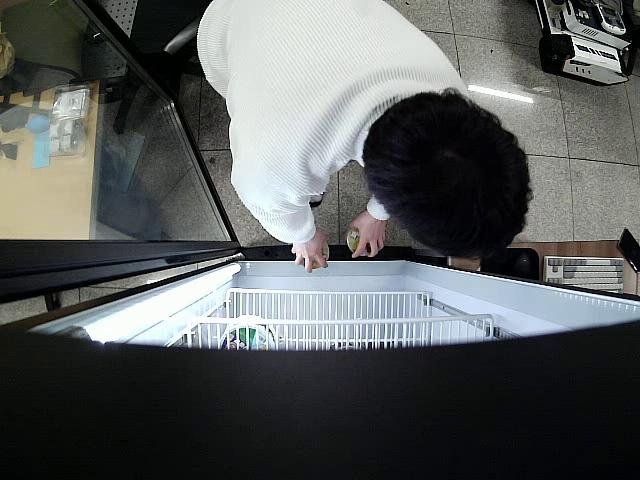00_hand: (345, 210, 389, 261), (290, 228, 332, 275)
04_chapagetti_S: (349, 227, 374, 255)
